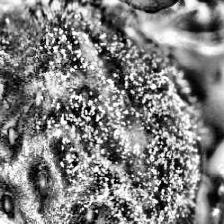Gray Mold: (0, 0, 206, 224)
